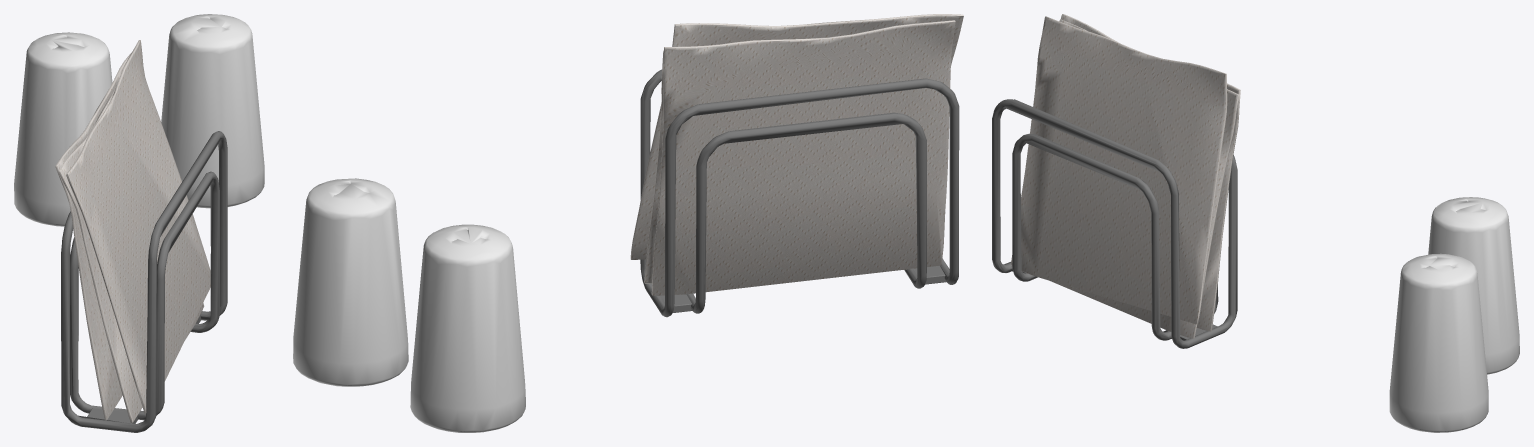
Rendered from saltandpapper.fbx.
The picture shows the model from 3 angles, left to right: view 1: azimuth 30°, elevation 25°; view 2: azimuth 150°, elevation 25°; view 3: azimuth 270°, elevation 25°; orthographic projection. The views are drawn at different scales.
Parts seen in each view (by area): view 1: Salt&paperTowelsOBJ.002, Salt&paperTowelsOBJ.001, Salt&paperTowelsOBJ; view 2: Salt&paperTowelsOBJ.002, Salt&paperTowelsOBJ.001, Salt&paperTowelsOBJ; view 3: Salt&paperTowelsOBJ.002, Salt&paperTowelsOBJ.001, Salt&paperTowelsOBJ.
Part boxes in pixels (<box>): Salt&paperTowelsOBJ.002: <box>55,40,210,422</box>; Salt&paperTowelsOBJ.001: <box>14,14,264,226</box>; Salt&paperTowelsOBJ: <box>61,131,227,432</box>; Salt&paperTowelsOBJ.002: <box>630,14,963,295</box>; Salt&paperTowelsOBJ.001: <box>293,178,525,432</box>; Salt&paperTowelsOBJ: <box>640,69,959,317</box>; Salt&paperTowelsOBJ.002: <box>1011,14,1240,338</box>; Salt&paperTowelsOBJ.001: <box>1389,197,1519,432</box>; Salt&paperTowelsOBJ: <box>992,99,1237,348</box>.
Size of the model in its own units: 2102 by 1373 by 2567.
